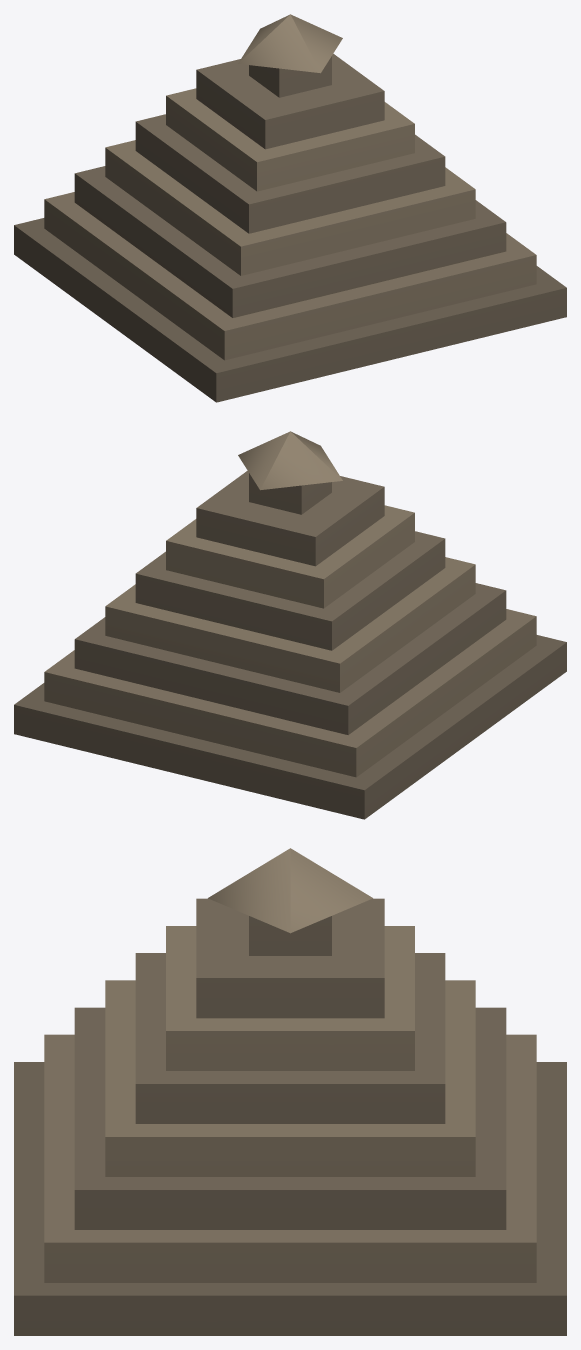
File: koh-ker.glb
3 views of the same model, one above another, from view 1: azimuth 30°, elevation 25°; view 2: azimuth 150°, elevation 25°; view 3: azimuth 270°, elevation 25° (orthographic). The views are drawn at different scales.
Size of the model in its own units: 6 by 4.44 by 6.
